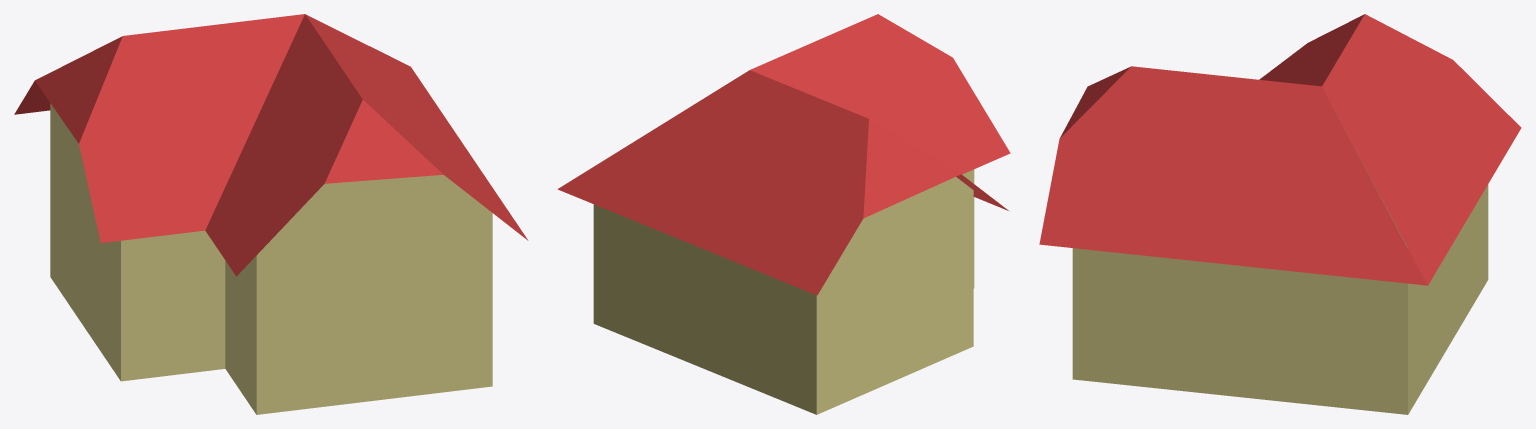
3 views of the same model, side by side, from view 1: azimuth 30°, elevation 25°; view 2: azimuth 150°, elevation 25°; view 3: azimuth 270°, elevation 25° (orthographic). The views are drawn at different scales.
Size of the model in its own units: 16.3 by 17.65 by 10.85.
